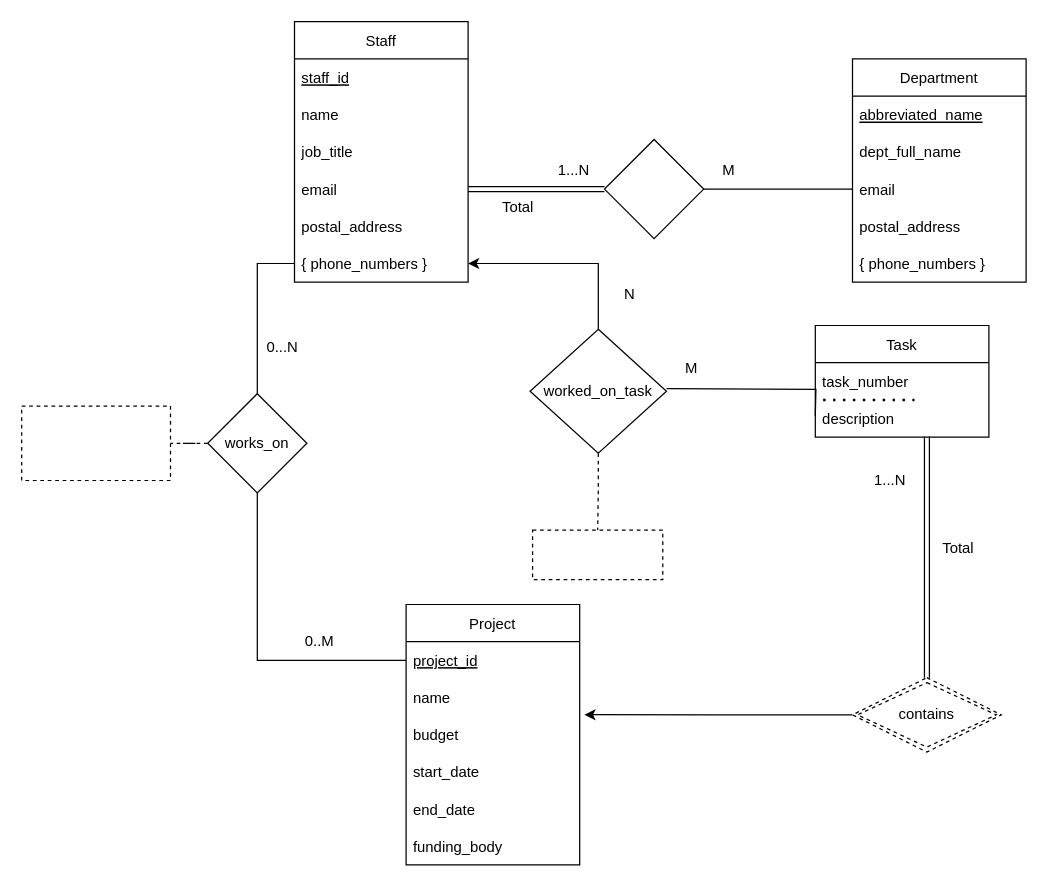
The diagram is 1048 pixels wide and 887 high, and some of its shapes have lost their labels. The shapes that lost their labels are listed below. From the top down, each one's box as (x1, y1, x2, y2) in pixels, then its label:
(603, 138, 704, 239): employs
(20, 405, 170, 480): role percentage_of_work is_part_time
(531, 529, 663, 580): days_of_working
